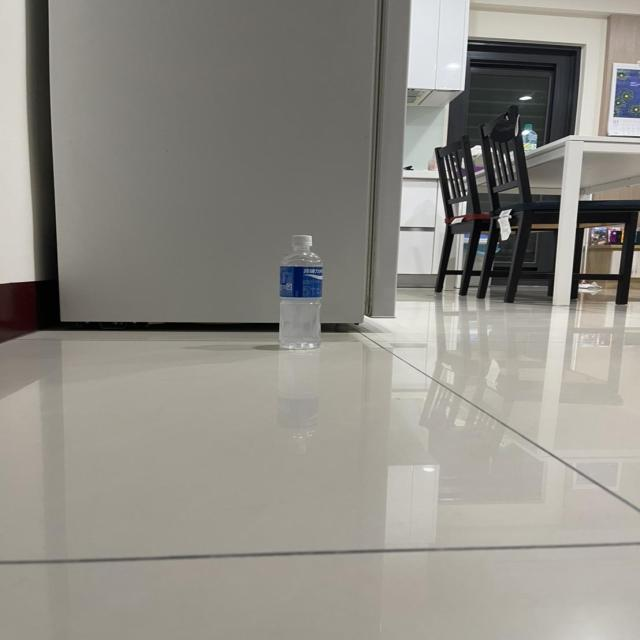bottle: (269, 226, 329, 363)
